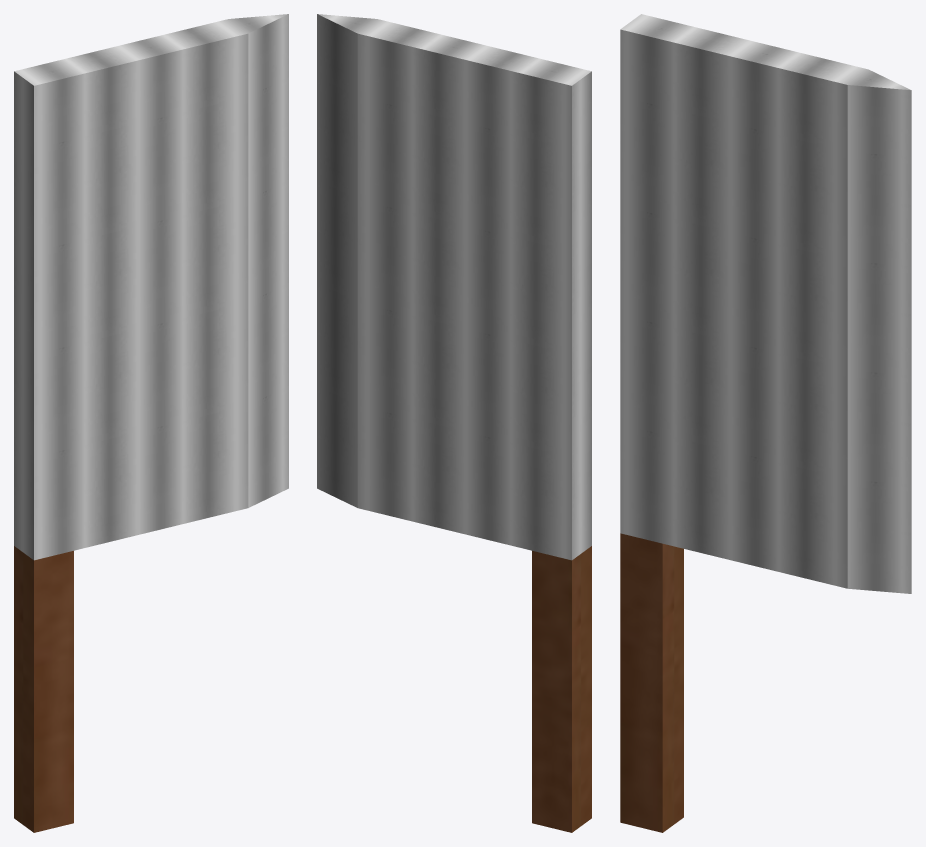
The model's file is knife 5.dae.
The picture shows the model from 3 angles, left to right: view 1: azimuth 30°, elevation 25°; view 2: azimuth 150°, elevation 25°; view 3: azimuth 330°, elevation 25°; orthographic projection. The views are drawn at different scales.
Parts seen in each view (by area): view 1: SketchUp, SketchUp_001; view 2: SketchUp, SketchUp_001; view 3: SketchUp, SketchUp_001.
Part boxes in pixels (x1,y1,x2,y2): SketchUp: (14,14,288,560); SketchUp_001: (14,546,73,832); SketchUp: (317,14,591,560); SketchUp_001: (532,546,591,832); SketchUp: (620,14,911,593); SketchUp_001: (620,533,683,832).
Bounding box in the file's own units: 0.2735 × 0.0356 × 0.7377.
Materials: 2 (2 with a texture image).
